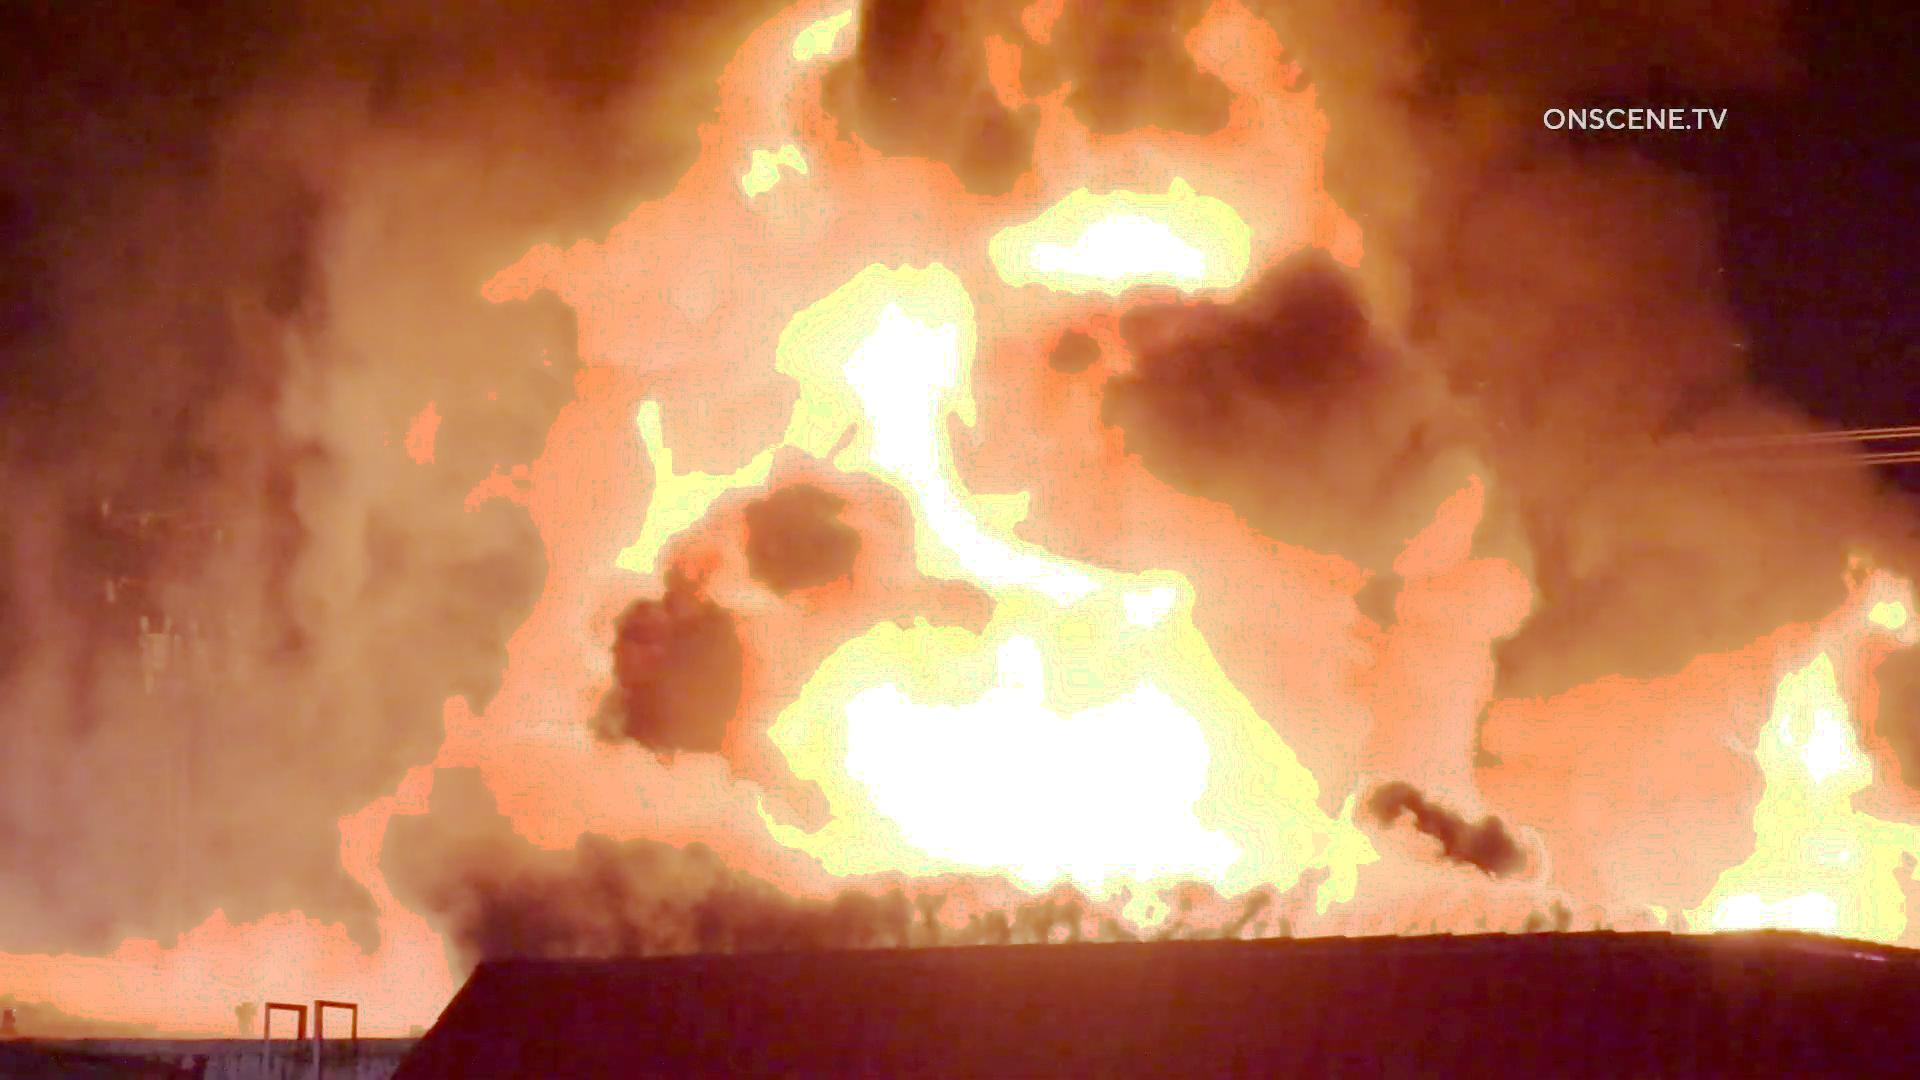fire: (705, 293, 1305, 851), (1665, 638, 1896, 914)
smoke: (0, 113, 473, 1014)
